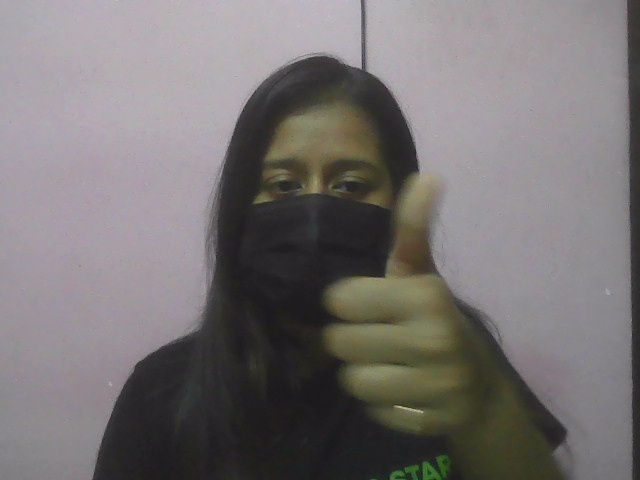Good: (315, 166, 492, 450)
